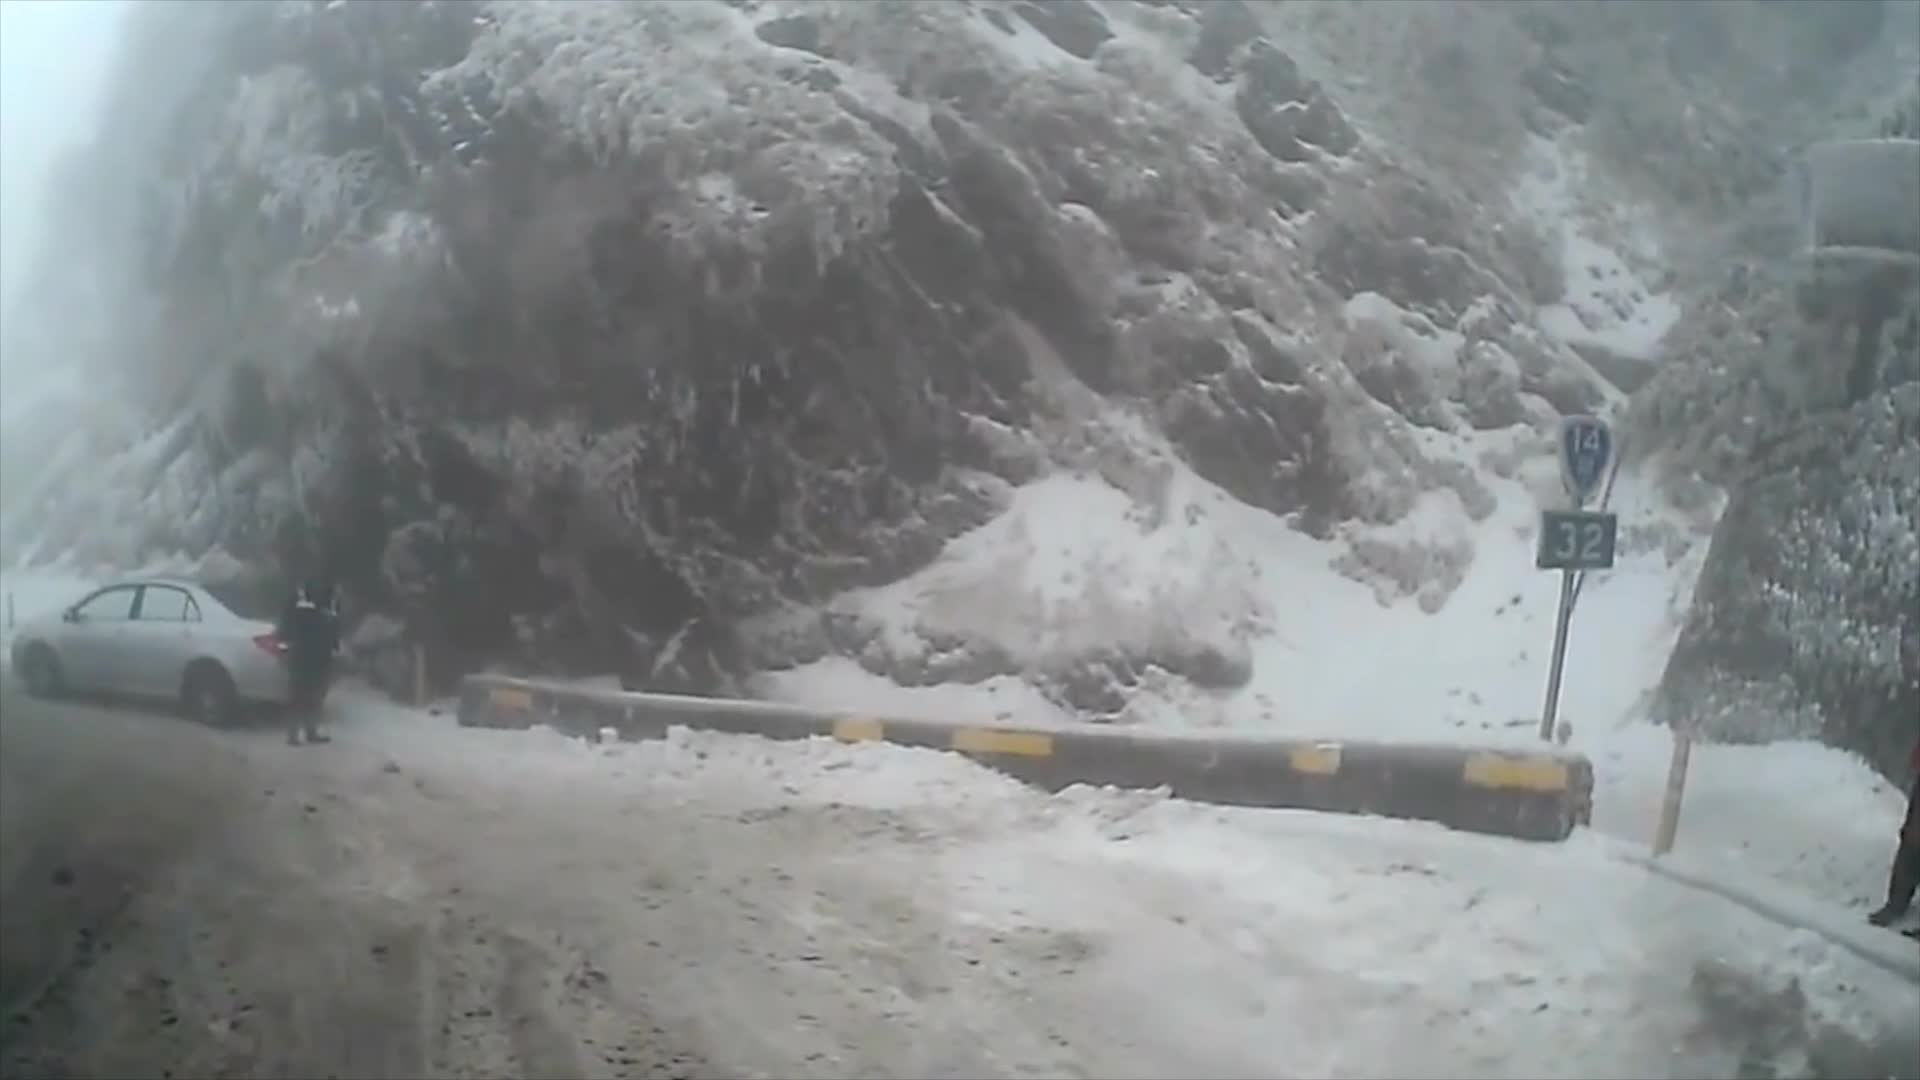pedestrian: (273, 557, 339, 744)
vehicle: (8, 573, 323, 726)
